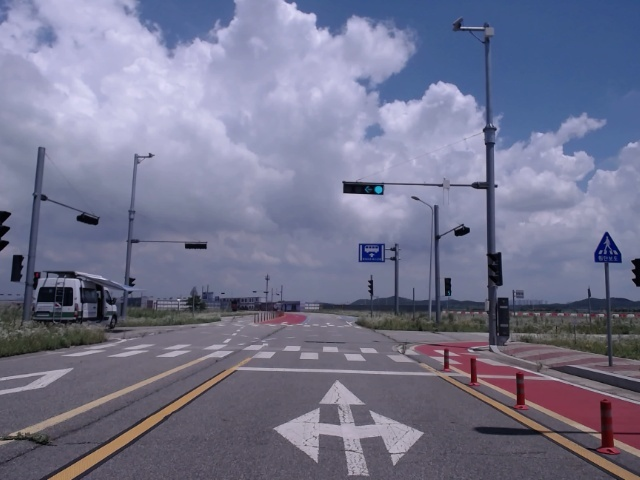all_green_4: (344, 180, 386, 194)
